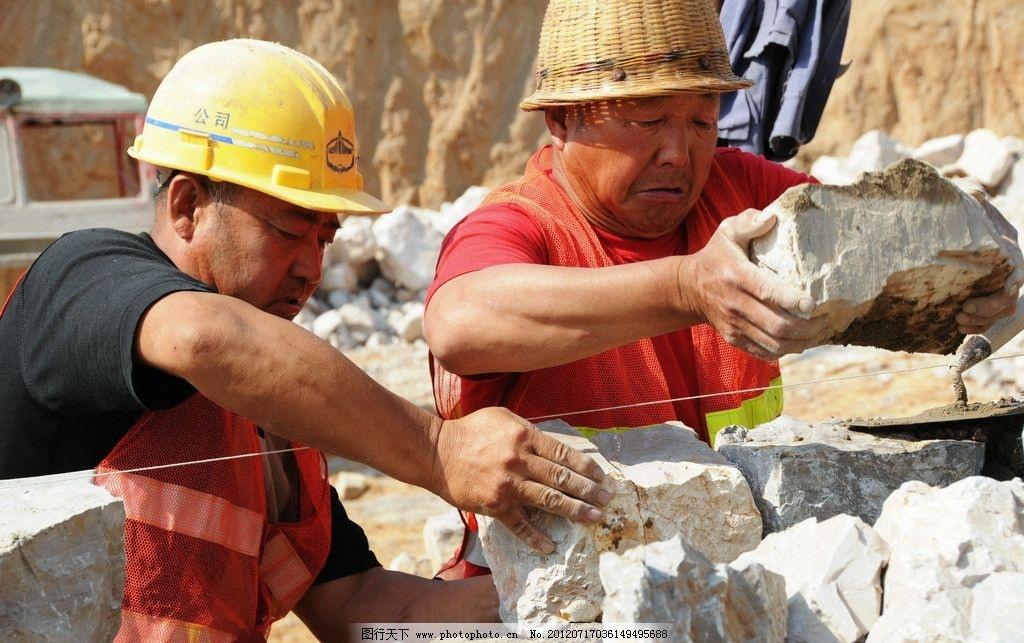none: (531, 4, 738, 240)
yellow: (144, 36, 364, 331)
